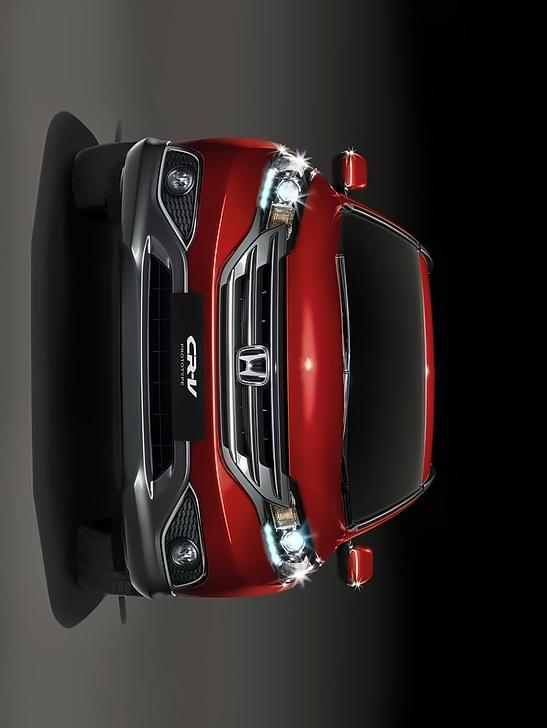Car hood: (279, 166, 350, 567)
Front bumper: (109, 129, 277, 610)
Headlight - -L-: (252, 487, 319, 586)
Headlight - -R-: (258, 142, 308, 249)
Side mirror - -L-: (333, 541, 376, 592)
Side mirror - -R-: (332, 148, 370, 202)
